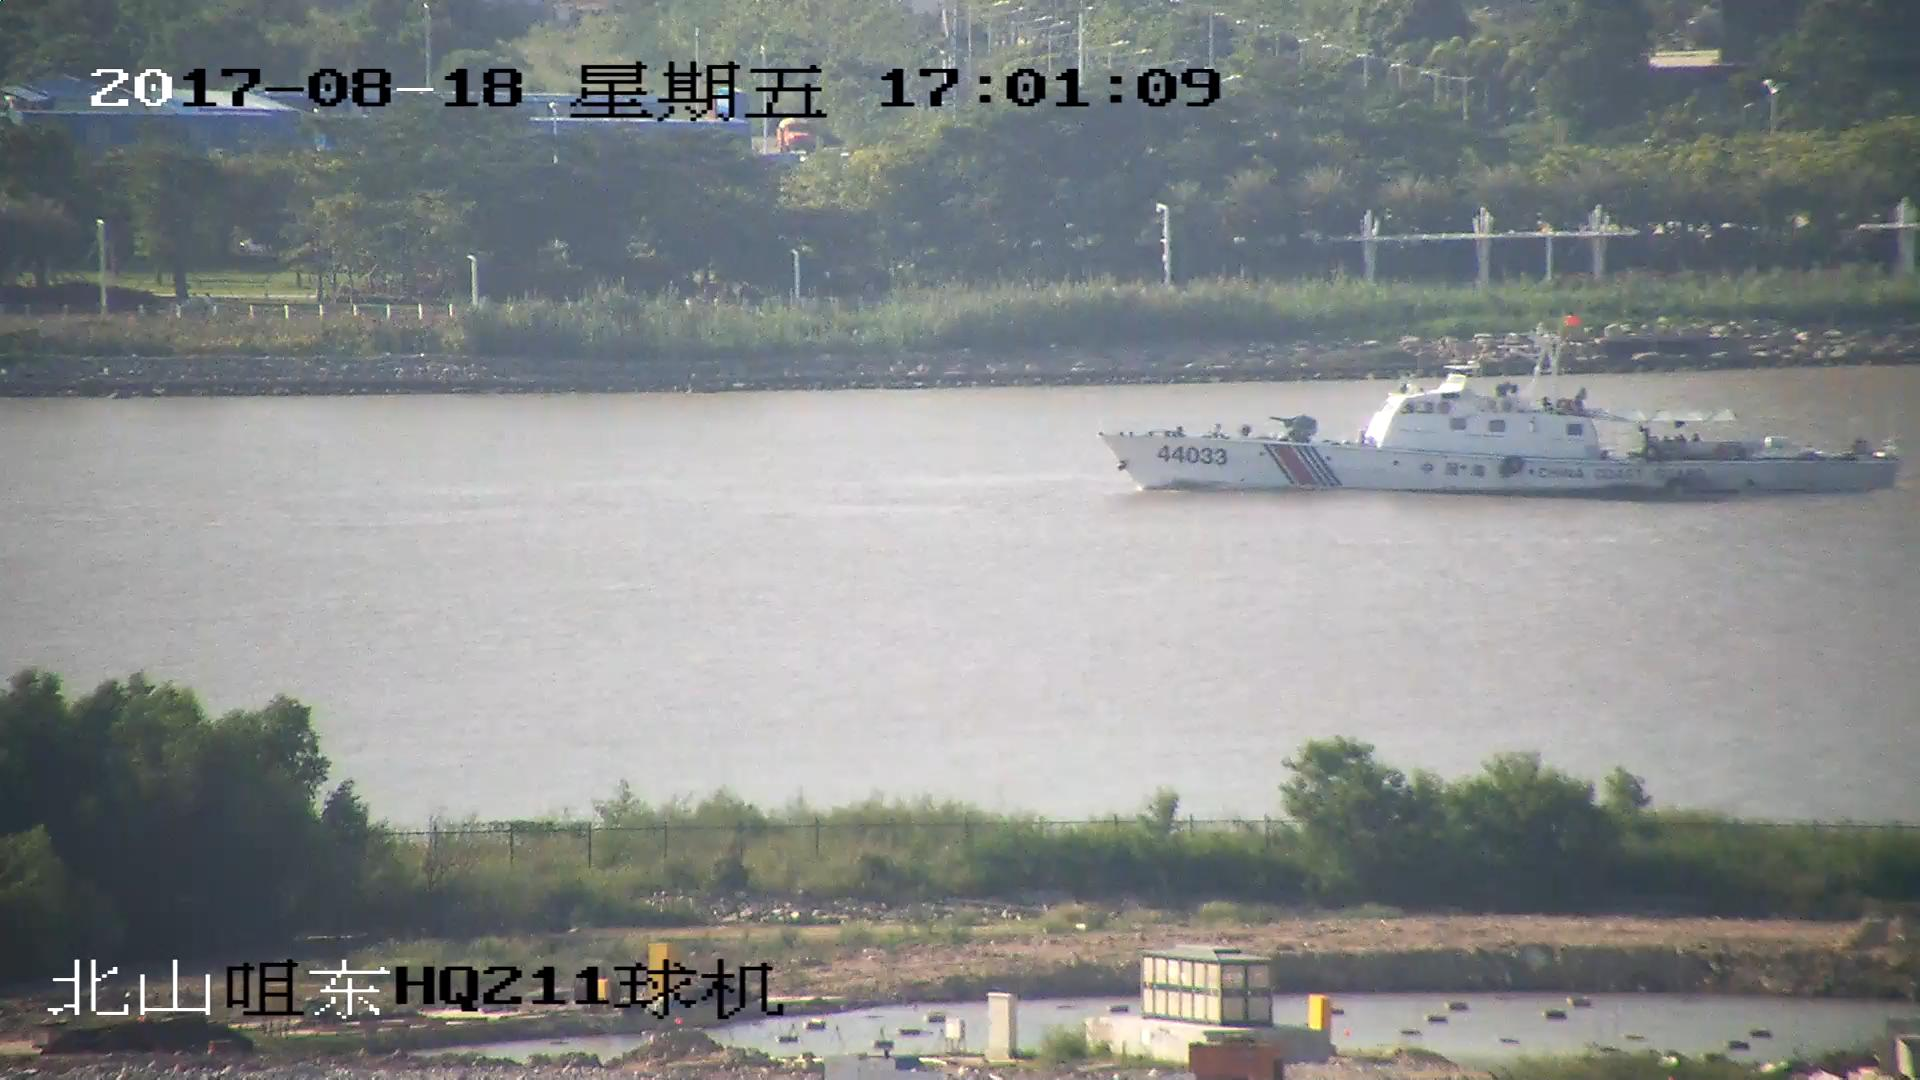passenger ship: (1098, 314, 1898, 500)
